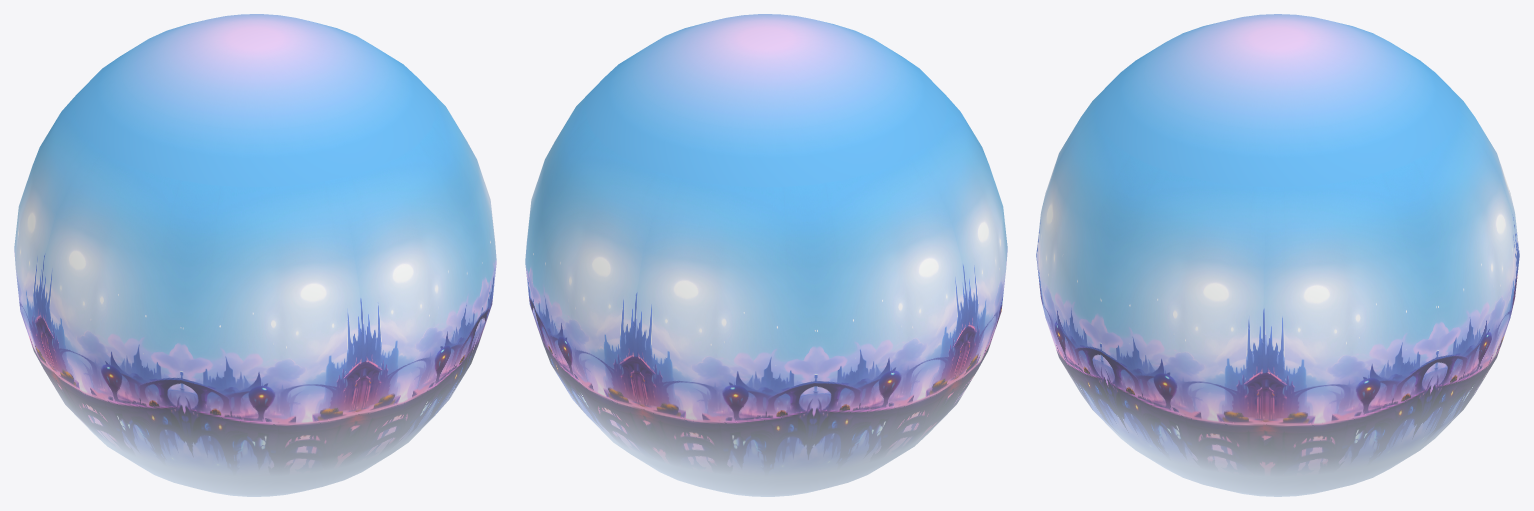
The model's file is ARwindow.glb.
3 renders of one model, left to right at view 1: azimuth 30°, elevation 25°; view 2: azimuth 150°, elevation 25°; view 3: azimuth 270°, elevation 25°, orthographic.
Visible parts, largest first — view 1: Sphere; view 2: Sphere; view 3: Sphere.
Boxes of the visible parts, x1,y1,x2,y2 form: Sphere: [14, 14, 496, 496]; Sphere: [525, 14, 1007, 496]; Sphere: [1036, 14, 1519, 496].
Size of the model in its own units: 59.74 by 59.74 by 59.74.
5 materials, 3 textured.
